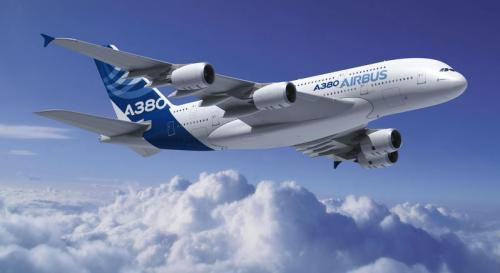airplane: (26, 27, 468, 175)
